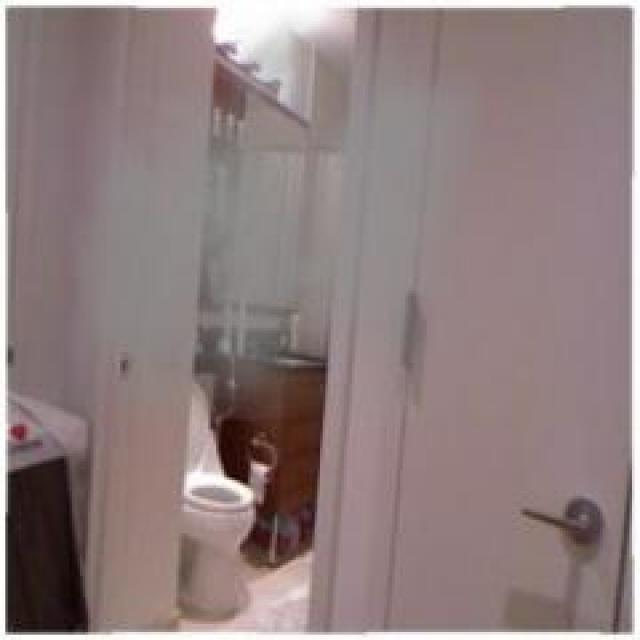Smoke: (65, 0, 481, 421)
